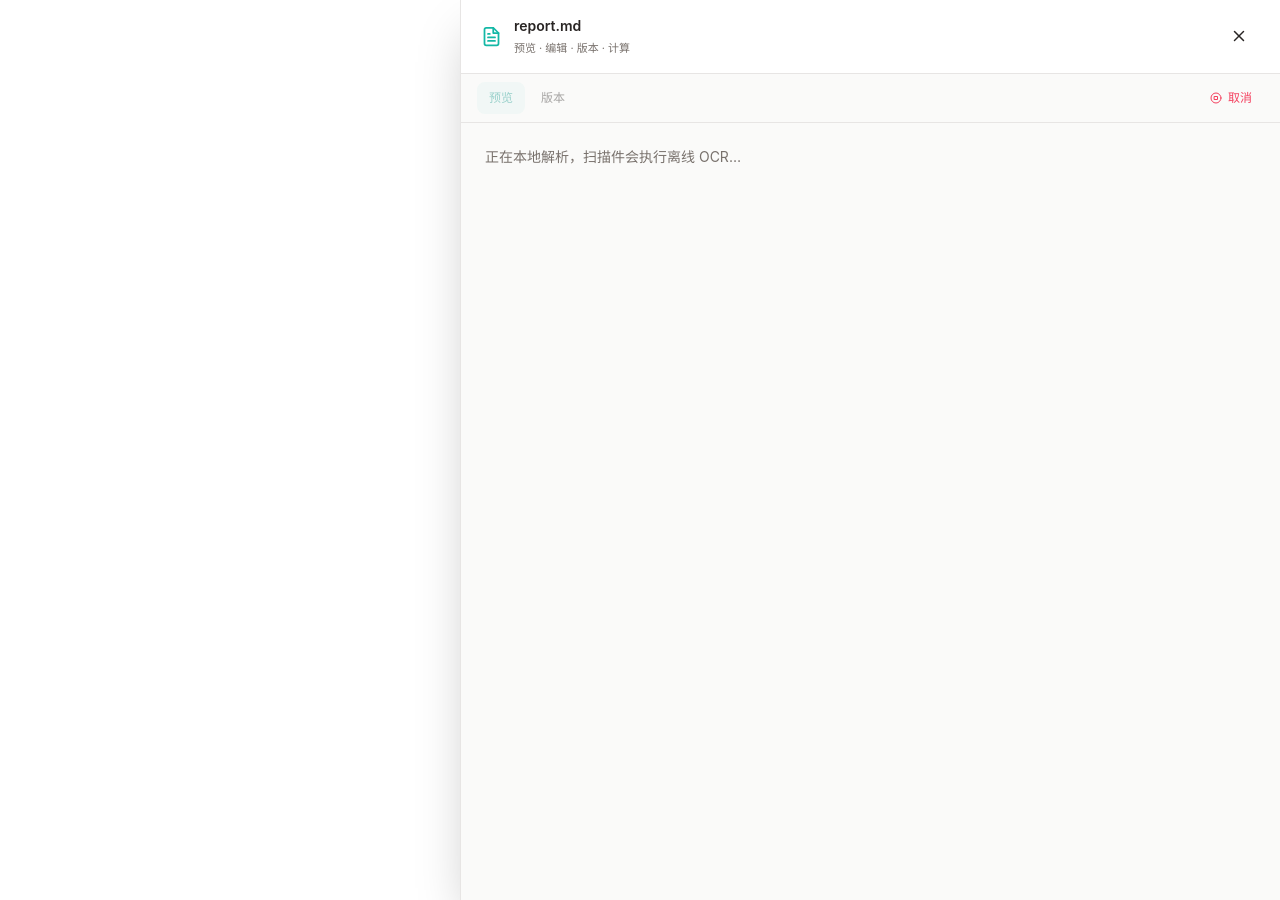
it: document workbench UI › cancels an in-flight read and reports a deleted source clearly
Click the button "取消": click(1231, 98) left=1198, top=82, right=1264, bottom=114
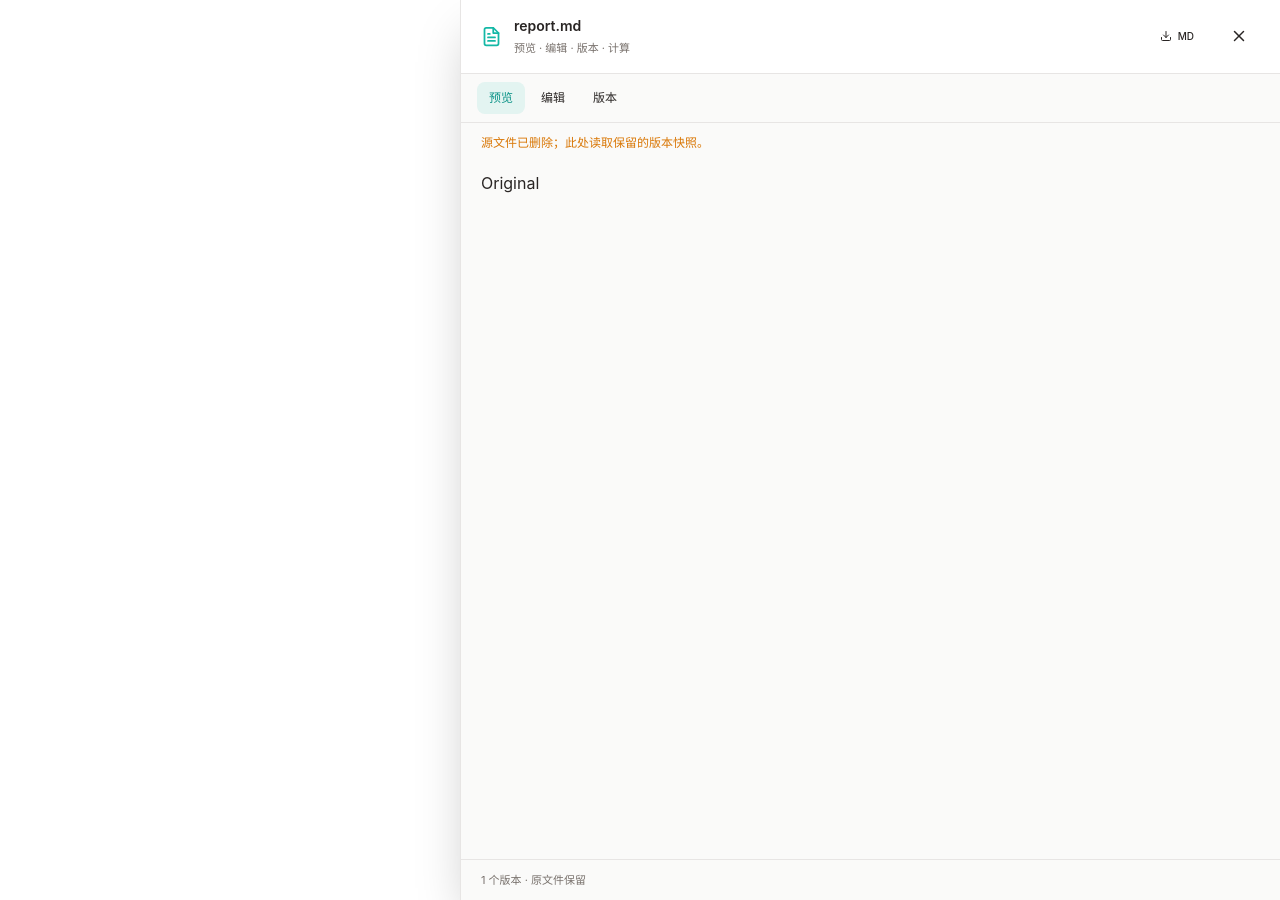
Expected: the text "源文件已删除；此处读取保留的版本快照。" is shown, left=481, top=134, right=709, bottom=150
Expected: the button "取消" is gone
